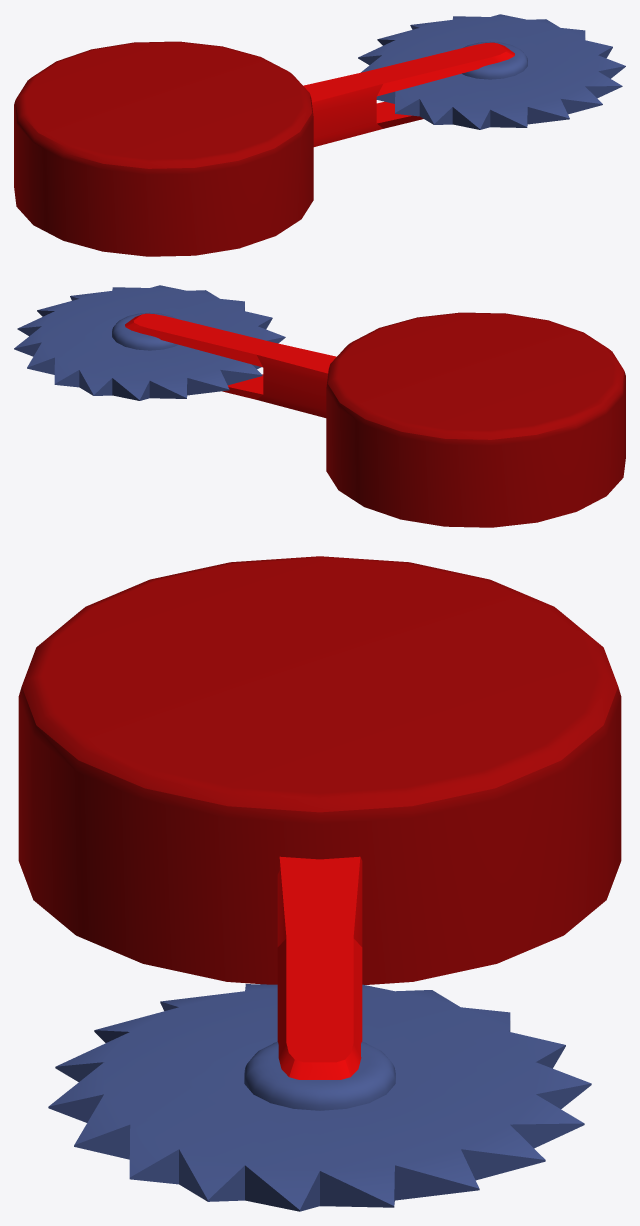
File: Saw_B_solo.fbx
3 renders of one model, top to bottom at view 1: azimuth 30°, elevation 25°; view 2: azimuth 150°, elevation 25°; view 3: azimuth 270°, elevation 25°, orthographic. The views are drawn at different scales.
Visible parts, largest first — view 1: Saw_B_solo; view 2: Saw_B_solo; view 3: Saw_B_solo.
Boxes of the visible parts, x1,y1,x2,y2 form: Saw_B_solo: (14,14,625,256); Saw_B_solo: (14,285,625,527); Saw_B_solo: (18,556,621,1211).
Bounding box in the file's own units: 130 × 19.99 × 59.07.
